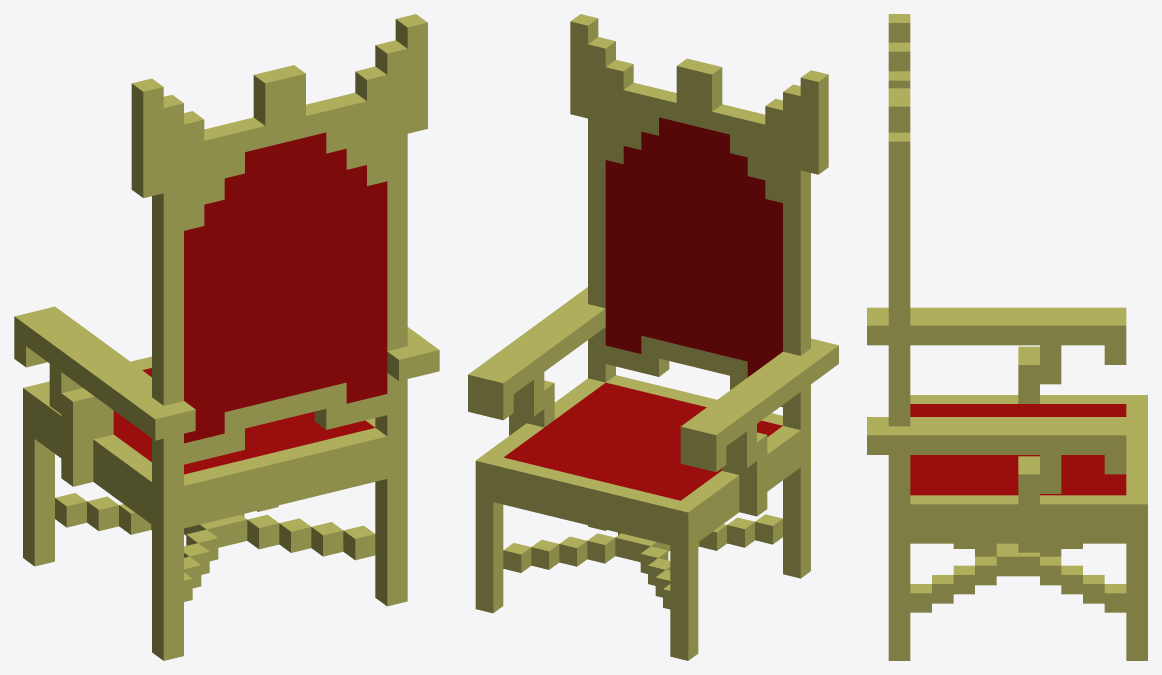
The model's file is Chair3.obj.
The picture shows the model from 3 angles, left to right: view 1: azimuth 30°, elevation 25°; view 2: azimuth 150°, elevation 25°; view 3: azimuth 270°, elevation 25°; orthographic projection. The views are drawn at different scales.
Size of the model in its own units: 1.4 by 2.7 by 1.3.
Materials: 1 (1 with a texture image).
